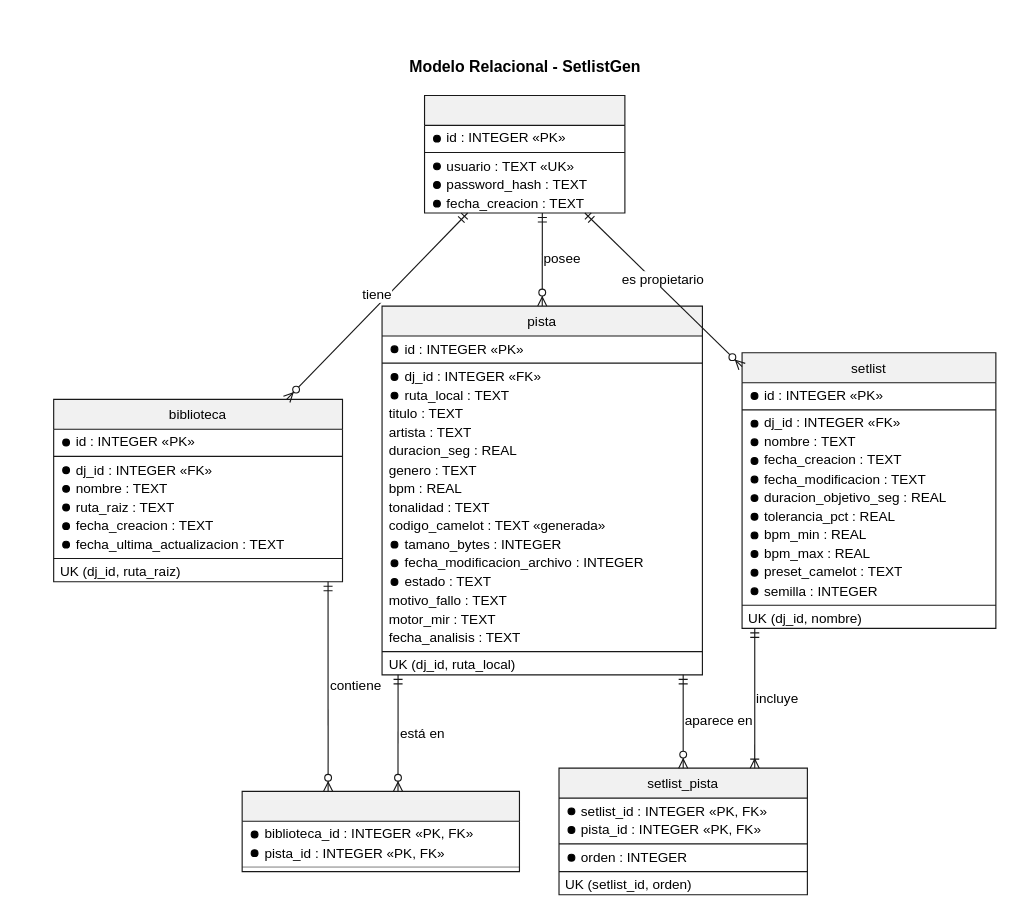
Some shapes in this 1016 by 914 pixel diagram are drawn without their labels. Each missing label, with the box of its shape:
biblioteca_pista: (241, 790, 519, 872)
dj: (423, 94, 625, 213)
